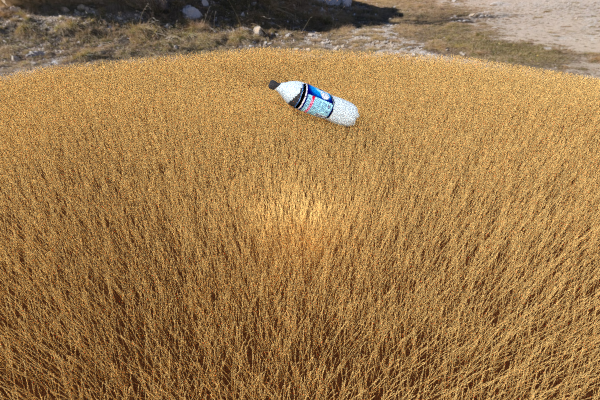bottle: (268, 79, 359, 126)
